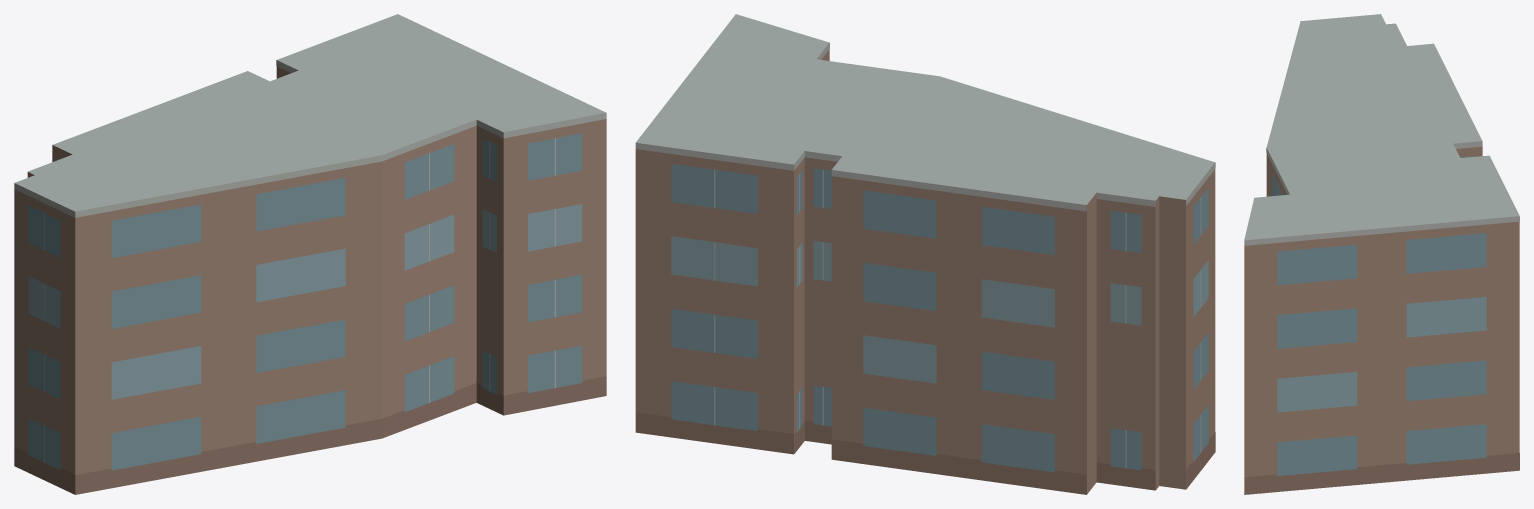
The model's file is survey-upis-32794943.glb.
3 views of the same model, side by side, from view 1: azimuth 30°, elevation 25°; view 2: azimuth 150°, elevation 25°; view 3: azimuth 270°, elevation 25° (orthographic). The views are drawn at different scales.
Parts seen in each view (by area): view 1: survey-upis-32794943.tmp; view 2: survey-upis-32794943.tmp; view 3: survey-upis-32794943.tmp.
Boxes of the visible parts, x1,y1,x2,y2 form: survey-upis-32794943.tmp: (14, 14, 606, 494); survey-upis-32794943.tmp: (635, 14, 1215, 494); survey-upis-32794943.tmp: (1244, 14, 1519, 494).
Bounding box in the file's own units: 21.57 × 11.3 × 11.11.
